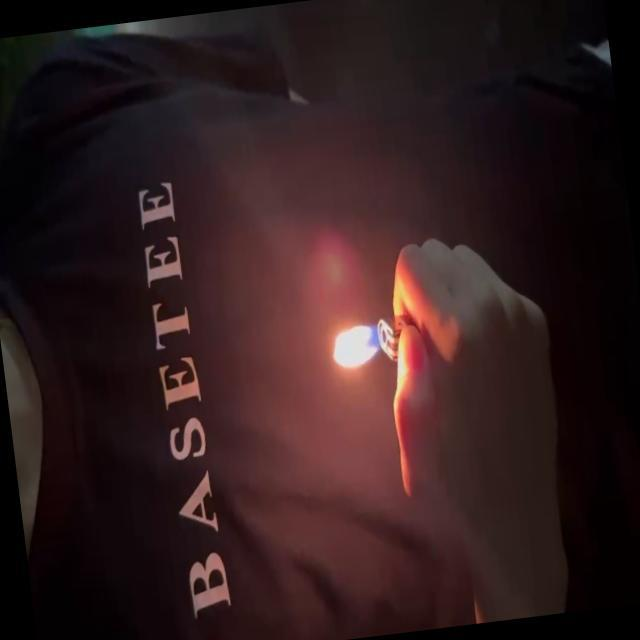Fire: (327, 313, 393, 373)
